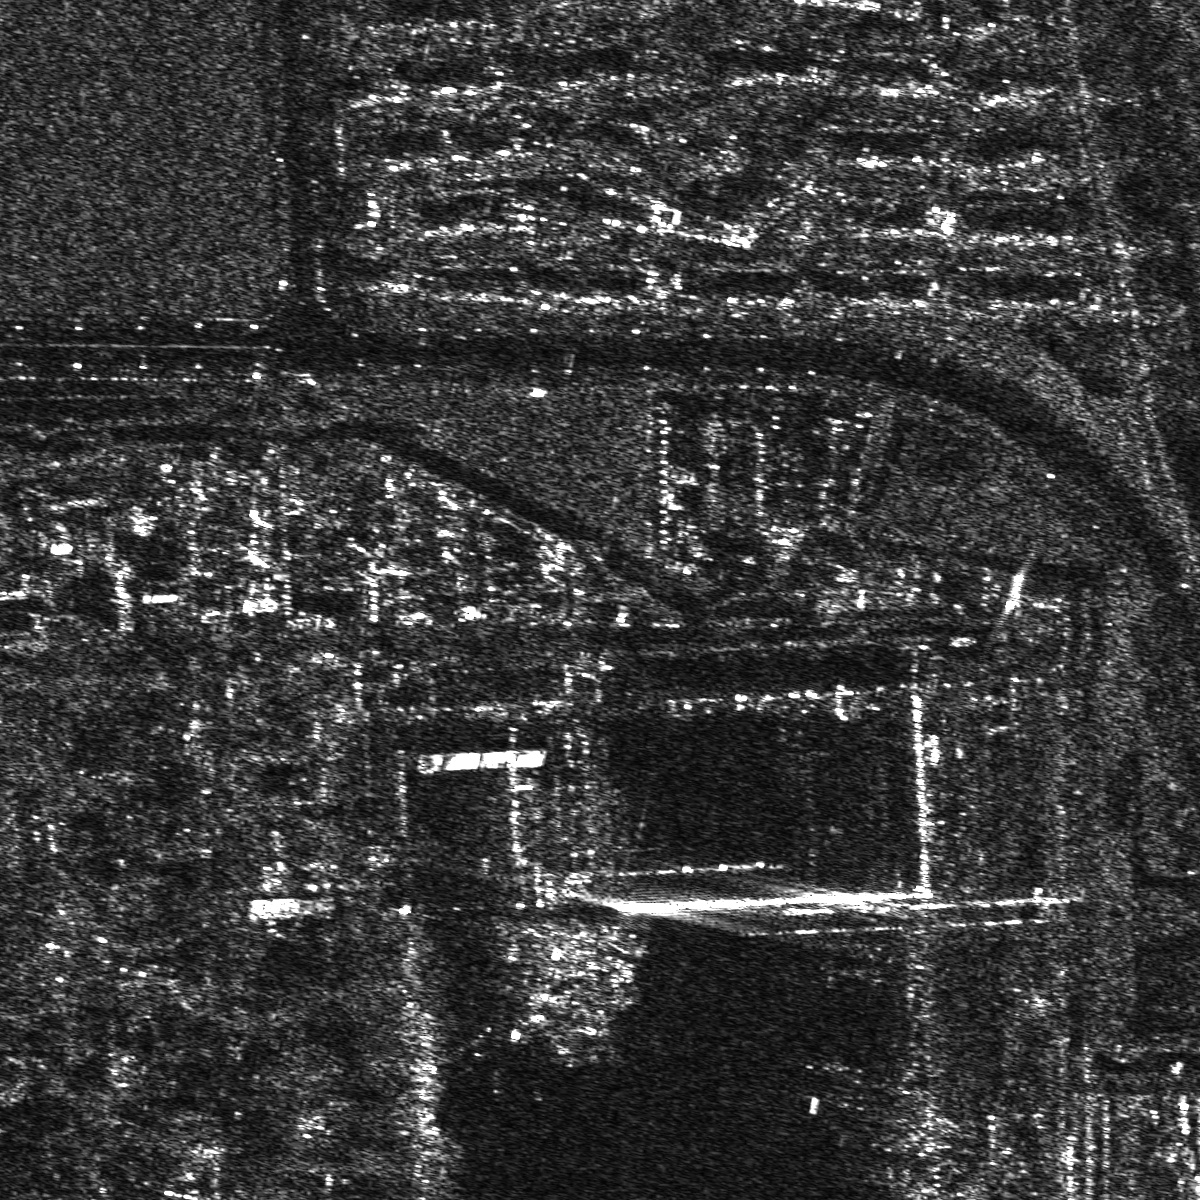A220: (805, 1048, 869, 1113)
